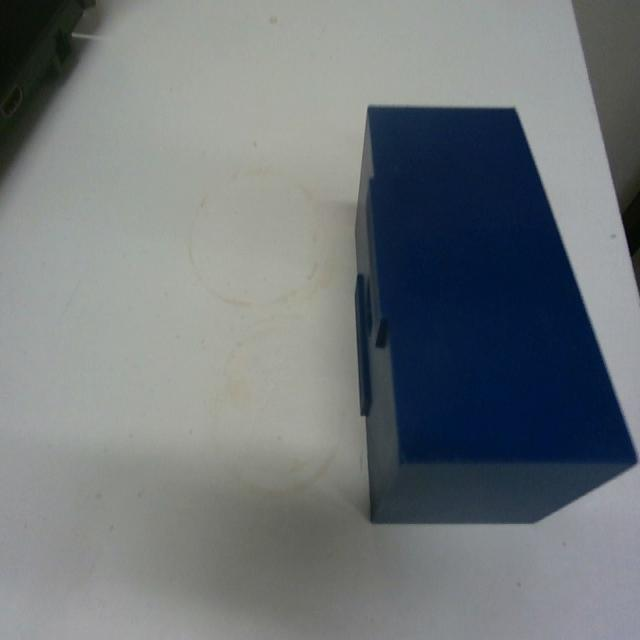Blue Cuboid: (351, 100, 638, 527)
